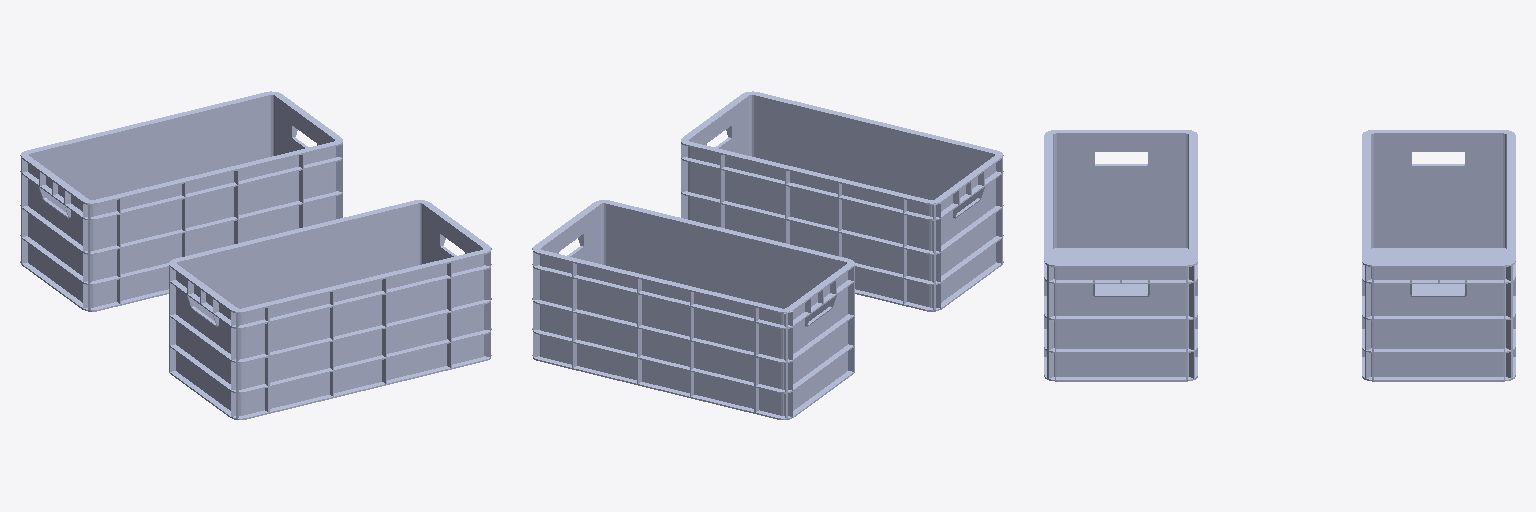
URDF robot description (Totes):
<?xml version="1.0" encoding="utf-8"?>
<!-- This URDF was automatically created by SolidWorks to URDF Exporter! Originally created by [author] ([email redacted]) 
     Commit Version: 1.6.0-4-g7f85cfe  Build Version: 1.6.7995.38578
     For more information, please see http://wiki.ros.org/sw_urdf_exporter -->
<robot
  name="Totes">
  <link
    name="base_link">
    <inertial>
      <origin
        xyz="0.274238759517782 0.261511419270312 1.11464100815312"
        rpy="0 0 0" />
      <mass
        value="2.57781401617548" />
      <inertia
        ixx="0.0529913259502657"
        ixy="-2.39304798938831E-06"
        ixz="5.08800970160778E-11"
        iyy="0.149974130247921"
        iyz="-6.72819021936475E-12"
        izz="0.135264552533251" />
    </inertial>
    <visual>
      <origin
        xyz="0 0 0"
        rpy="0 0 0" />
      <geometry>
        <mesh
          filename="package://Totes/meshes/base_link.STL" />
      </geometry>
      <material
        name="">
        <color
          rgba="0.792156862745098 0.819607843137255 0.933333333333333 1" />
      </material>
    </visual>
    <collision>
      <origin
        xyz="0 0 0"
        rpy="0 0 0" />
      <geometry>
        <mesh
          filename="package://Totes/meshes/base_link.STL" />
      </geometry>
    </collision>
  </link>
  <link
    name="box2">
    <inertial>
      <origin
        xyz="-0.0005898247214699 -0.0280527326873534 4.19559942343994E-11"
        rpy="0 0 0" />
      <mass
        value="2.57781401617547" />
      <inertia
        ixx="0.0529913259502661"
        ixy="-2.39304798949556E-06"
        ixz="5.08803787696511E-11"
        iyy="0.149974130247921"
        iyz="-6.72818933082077E-12"
        izz="0.135264552533252" />
    </inertial>
    <visual>
      <origin
        xyz="0 0 0"
        rpy="0 0 0" />
      <geometry>
        <mesh
          filename="package://Totes/meshes/box2.STL" />
      </geometry>
      <material
        name="">
        <color
          rgba="0.792156862745098 0.819607843137255 0.933333333333333 1" />
      </material>
    </visual>
    <collision>
      <origin
        xyz="0 0 0"
        rpy="0 0 0" />
      <geometry>
        <mesh
          filename="package://Totes/meshes/box2.STL" />
      </geometry>
    </collision>
  </link>
  <joint
    name="box2_joint"
    type="fixed">
    <origin
      xyz="0.27483 -0.80464 0.28956"
      rpy="1.5708 0 0" />
    <parent
      link="base_link" />
    <child
      link="box2" />
    <axis
      xyz="0 0 0" />
  </joint>
  <link
    name="box3">
    <inertial>
      <origin
        xyz="-0.0005898247214704 -0.0280527326873534 4.19560497455507E-11"
        rpy="0 0 0" />
      <mass
        value="2.57781401617547" />
      <inertia
        ixx="0.052991325950265"
        ixy="-2.39304798927513E-06"
        ixz="5.08802342921523E-11"
        iyy="0.14997413024792"
        iyz="-6.72818873915956E-12"
        izz="0.13526455253325" />
    </inertial>
    <visual>
      <origin
        xyz="0 0 0"
        rpy="0 0 0" />
      <geometry>
        <mesh
          filename="package://Totes/meshes/box3.STL" />
      </geometry>
      <material
        name="">
        <color
          rgba="0.792156862745098 0.819607843137255 0.933333333333333 1" />
      </material>
    </visual>
    <collision>
      <origin
        xyz="0 0 0"
        rpy="0 0 0" />
      <geometry>
        <mesh
          filename="package://Totes/meshes/box3.STL" />
      </geometry>
    </collision>
  </link>
  <joint
    name="box3_joint"
    type="fixed">
    <origin
      xyz="0 0 -0.31"
      rpy="0 0 0" />
    <parent
      link="box2" />
    <child
      link="box3" />
    <axis
      xyz="0 0 0" />
  </joint>
  <link
    name="box4">
    <inertial>
      <origin
        xyz="-0.000589824721471066 -0.0280527326873534 4.19562717901556E-11"
        rpy="0 0 0" />
      <mass
        value="2.57781401617548" />
      <inertia
        ixx="0.0529913259502648"
        ixy="-2.39304798926581E-06"
        ixz="5.08802009906299E-11"
        iyy="0.14997413024792"
        iyz="-6.72818800806432E-12"
        izz="0.13526455253325" />
    </inertial>
    <visual>
      <origin
        xyz="0 0 0"
        rpy="0 0 0" />
      <geometry>
        <mesh
          filename="package://Totes/meshes/box4.STL" />
      </geometry>
      <material
        name="">
        <color
          rgba="0.792156862745098 0.819607843137255 0.933333333333333 1" />
      </material>
    </visual>
    <collision>
      <origin
        xyz="0 0 0"
        rpy="0 0 0" />
      <geometry>
        <mesh
          filename="package://Totes/meshes/box4.STL" />
      </geometry>
    </collision>
  </link>
  <joint
    name="box4_joint"
    type="fixed">
    <origin
      xyz="0 0 -0.31"
      rpy="0 0 0" />
    <parent
      link="box3" />
    <child
      link="box4" />
    <axis
      xyz="0 0 0" />
  </joint>
</robot>

--- Render facts (derived) ---
3 views of the same robot in one strip: view 1: azimuth 30°, elevation 25°; view 2: azimuth 150°, elevation 25°; view 3: azimuth 270°, elevation 25° (orthographic).
Robot: Totes — 4 links, 3 joints (3 fixed); root link base_link; default pose: all joints at 0.
Links seen in each view (by area): view 1: base_link, box3; view 2: box3, base_link; view 3: base_link, box3.
Link boxes in pixels (x1=…): base_link: x1=169, y1=200, x2=491, y2=419; box3: x1=20, y1=91, x2=342, y2=311; box3: x1=532, y1=200, x2=854, y2=419; base_link: x1=681, y1=91, x2=1003, y2=311; base_link: x1=1044, y1=130, x2=1197, y2=381; box3: x1=1362, y1=130, x2=1515, y2=381.
Size in the robot's own frame: 0.628 by 0.92 by 0.26 metres.
Meshes: 4 distinct files referenced, 2 mesh visuals loaded (2 binary STL); not drawn: 2 (reference not matched to a file when rendering).